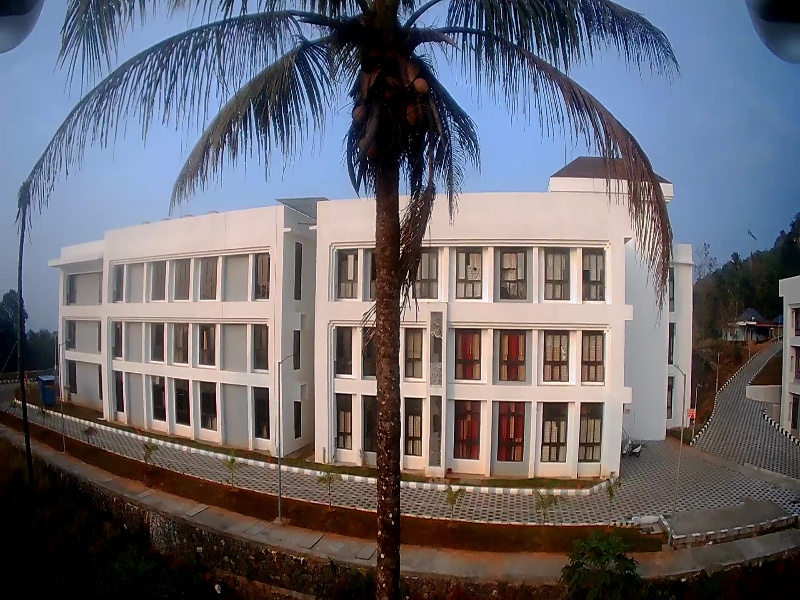coconut: (411, 68, 428, 97), (348, 101, 367, 116)
